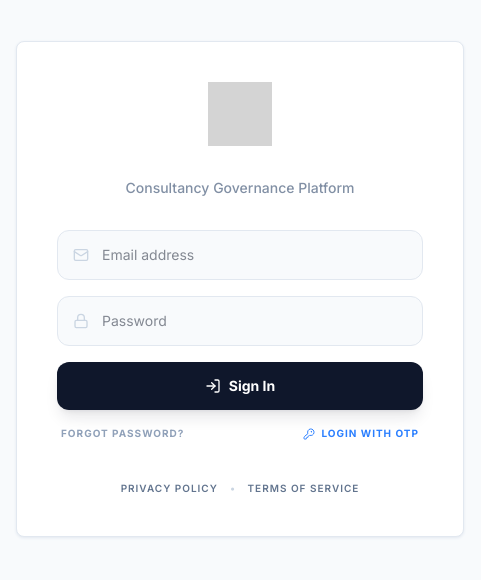
LoginPage UI › shows forgot-password flow when user selects it
This screenshot has width=481, height=580.
Click the button "Forgot Password?": (123, 434) [61,426,184,441]
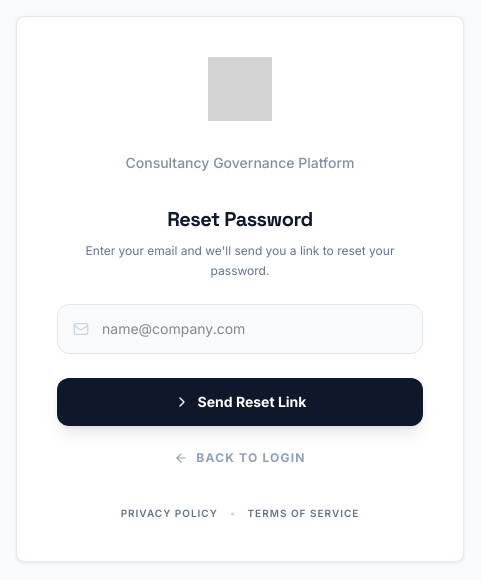
Check: the button "Send Reset Link" is shown, box [57,378,423,426]
Check: the button "Back to Login" is shown, box [57,450,423,466]
